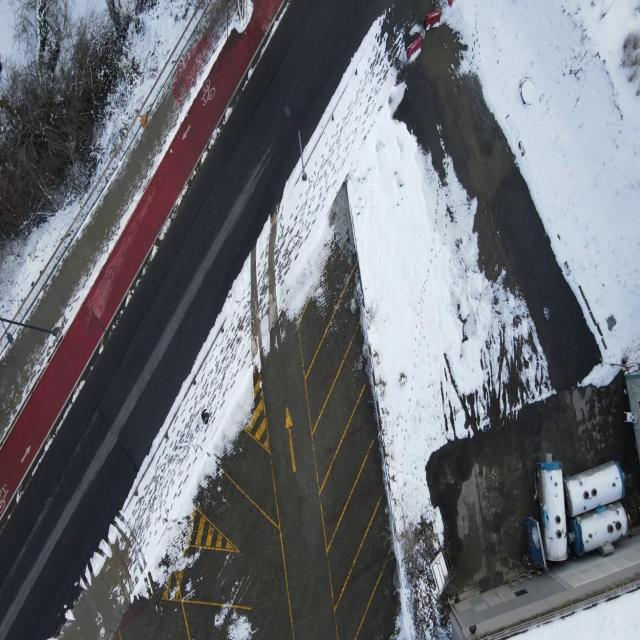p3rson: (201, 407, 213, 426)
